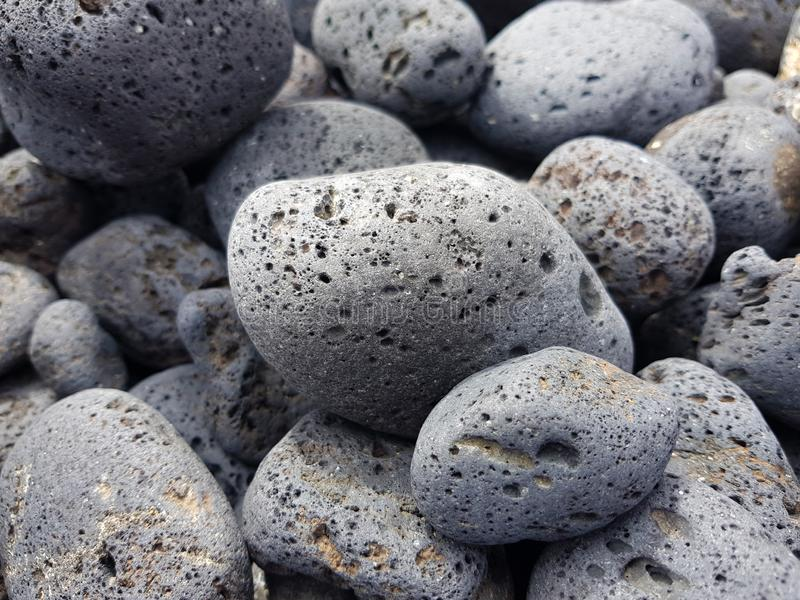volcanic_rock: (223, 174, 647, 440), (404, 342, 684, 552), (4, 393, 266, 599), (4, 1, 296, 182), (463, 1, 717, 164), (510, 125, 723, 315), (41, 203, 243, 366), (306, 3, 502, 127)
